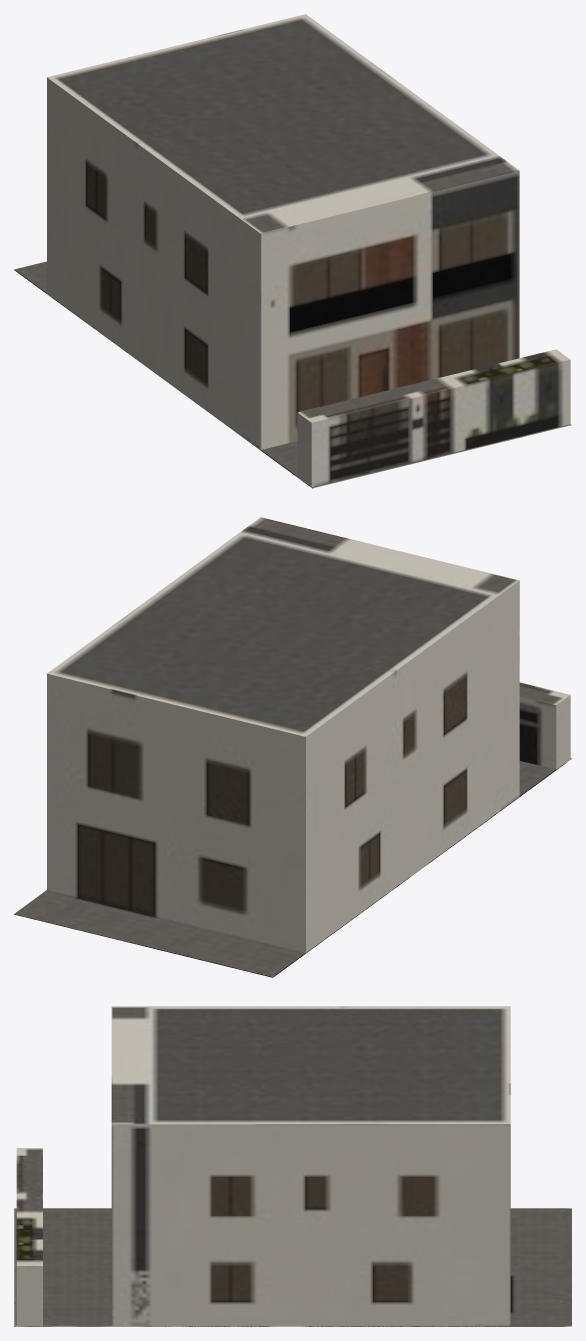
File: house_B_lod2.glb
3 views of the same model, one above another, from view 1: azimuth 30°, elevation 25°; view 2: azimuth 150°, elevation 25°; view 3: azimuth 270°, elevation 25° (orthographic). The views are drawn at different scales.
Parts seen in each view (by area): view 1: body; view 2: body; view 3: body.
Part boxes in pixels (<box>): body: <box>14,14,571,488</box>; body: <box>14,517,571,977</box>; body: <box>14,1006,571,1326</box>.
Size of the model in its own units: 10 by 8 by 20.
Materials: 1 (1 with a texture image).
